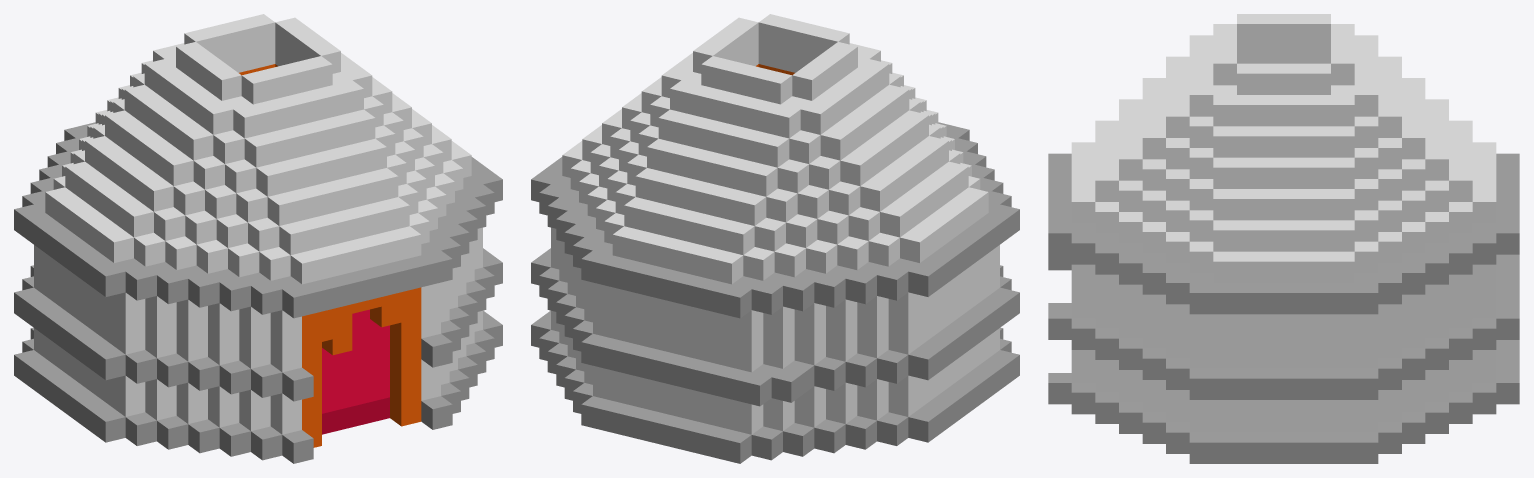
File: Ger Full Scale.obj
The picture shows the model from 3 angles, left to right: view 1: azimuth 30°, elevation 25°; view 2: azimuth 150°, elevation 25°; view 3: azimuth 270°, elevation 25°; orthographic projection. The views are drawn at different scales.
Bounding box in the file's own units: 20 × 15 × 20.
1 material, 1 textured.
